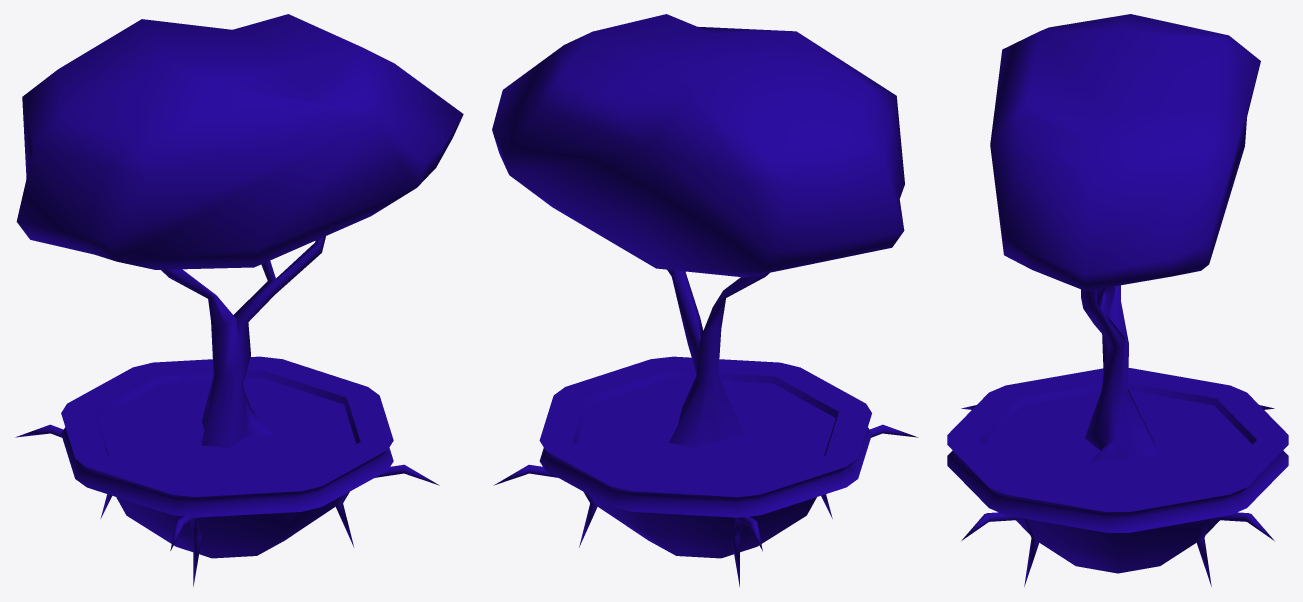
The model's file is CG_Model_TownInt_TreePlanter_Mar24_ChrisMcknight.FBX.
The picture shows the model from 3 angles, left to right: view 1: azimuth 30°, elevation 25°; view 2: azimuth 150°, elevation 25°; view 3: azimuth 270°, elevation 25°; orthographic projection.
Parts seen in each view (by area): view 1: Tree Planter; view 2: Tree Planter; view 3: Tree Planter.
Boxes of the visible parts, x1,y1,x2,y2 form: Tree Planter: (15, 14, 463, 586); Tree Planter: (492, 14, 918, 586); Tree Planter: (947, 14, 1288, 586).
Bounding box in the file's own units: 38.19 × 41.89 × 26.36.
